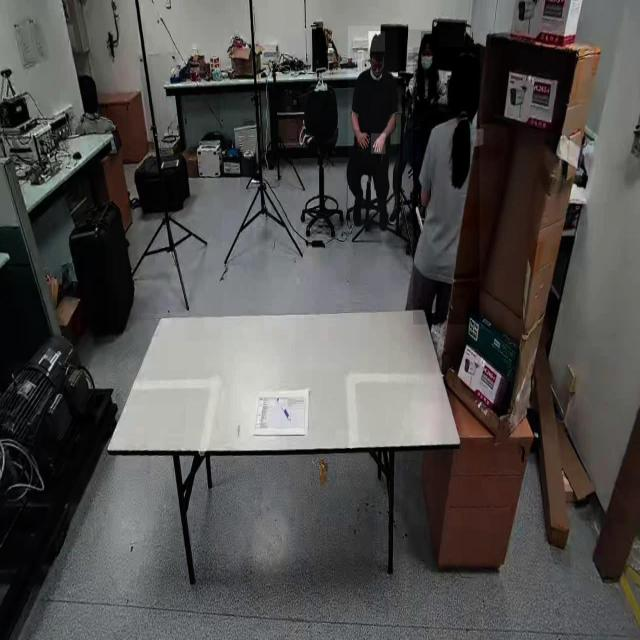face_mask: (421, 50, 433, 74)
face_nomask: (369, 56, 385, 81)
hand_noglove: (371, 133, 386, 155), (354, 130, 370, 150)
head_nohelmet: (452, 48, 480, 76), (368, 31, 386, 53), (421, 31, 435, 50)
person: (413, 47, 480, 325), (348, 26, 398, 232), (402, 29, 439, 112)
shoes: (349, 187, 367, 229), (386, 200, 404, 232), (375, 199, 390, 235)
